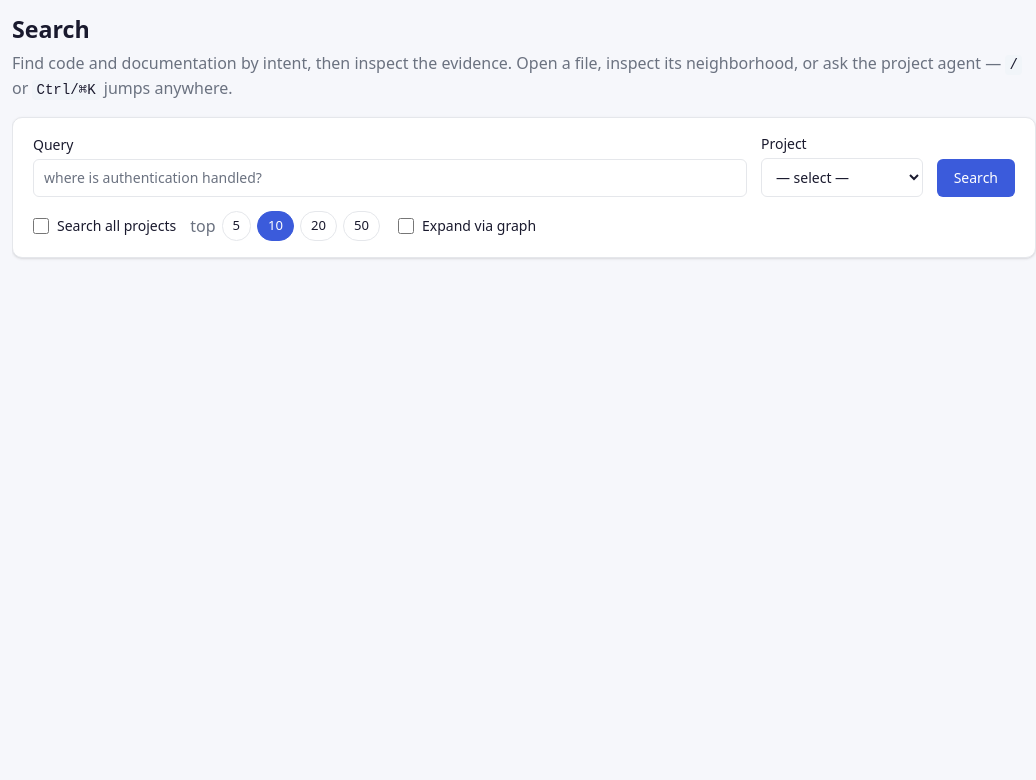
Scenario: SearchPage degraded badge › shows the degraded alert with the retry hint rounded to seconds
Step 1. Type "anything" into the field with placeholder "where is authentication handled?" → (390, 178), box [33,159,747,197]
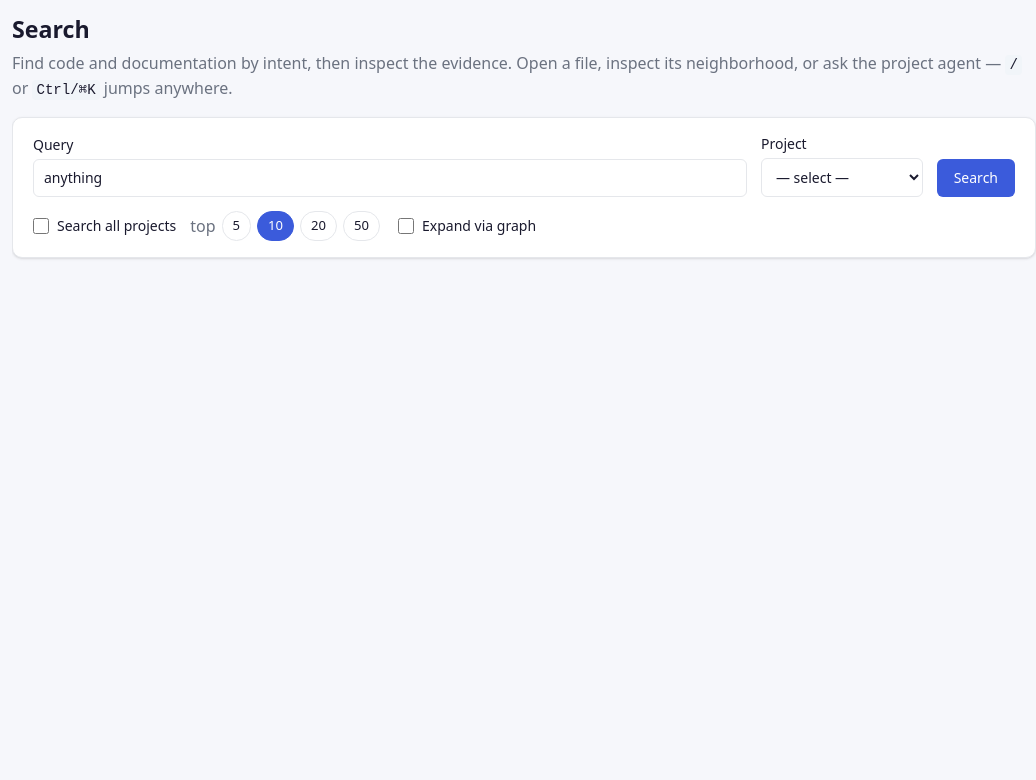
Step 2. Click the button "Search" → (976, 178), box [937,159,1015,197]
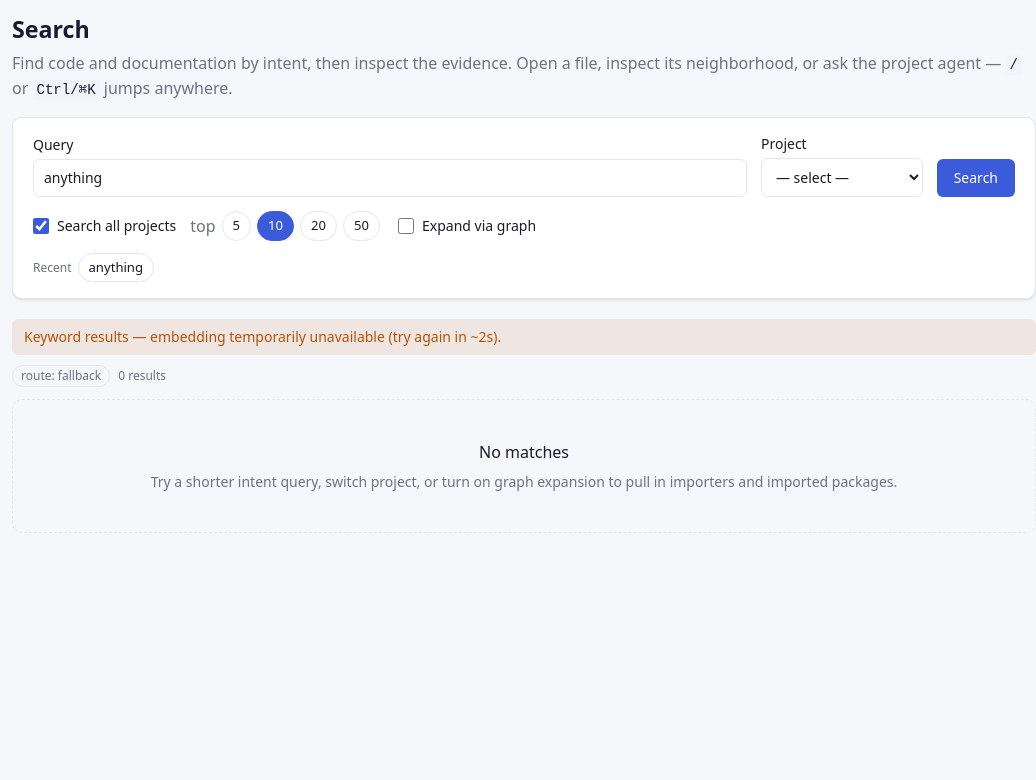
Now the text "No matches" is shown, box [479,440,569,464]
Now the message reads "Keyword results — embedding temporarily unavailable (try again in ~2s).", box [12,319,1035,355]
